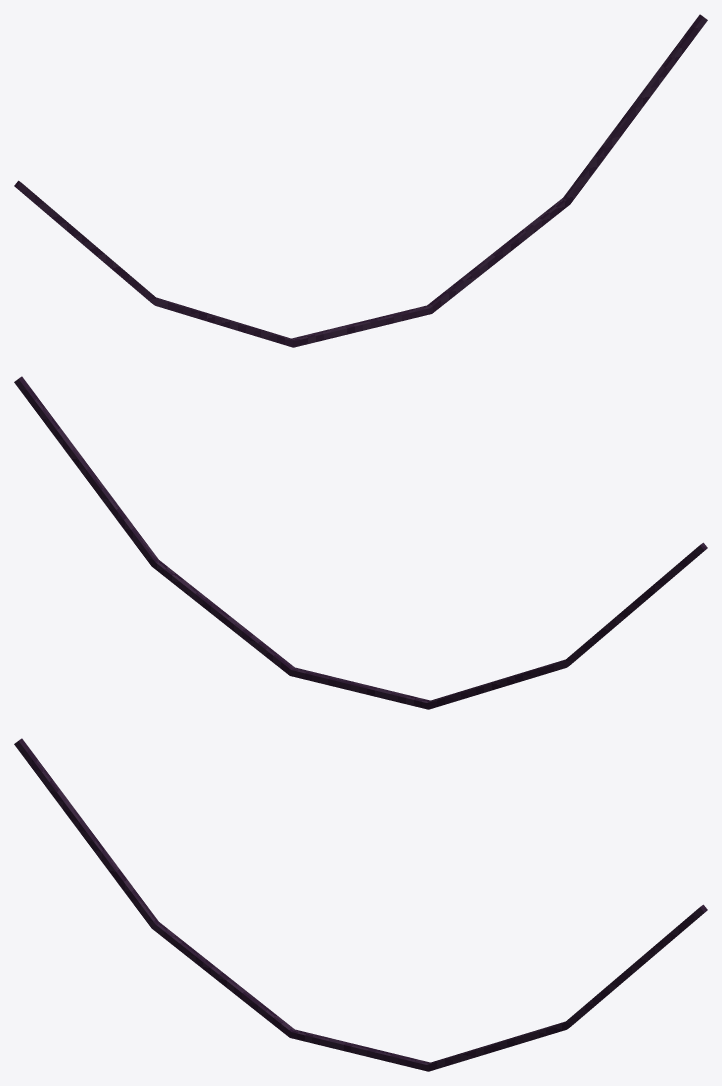
File: cable.glb
The picture shows the model from 3 angles, top to bottom: view 1: azimuth 30°, elevation 25°; view 2: azimuth 150°, elevation 25°; view 3: azimuth 330°, elevation 25°; orthographic projection.
Parts seen in each view (by area): view 1: Cable.001; view 2: Cable.001; view 3: Cable.001.
Part boxes in pixels (x1,y1,x2,y2): Cable.001: (14,14,707,347); Cable.001: (14,376,707,709); Cable.001: (14,738,707,1071).
Bounding box in the file's own units: 5.54 × 1.77 × 0.0495.
1 material, 1 textured.
